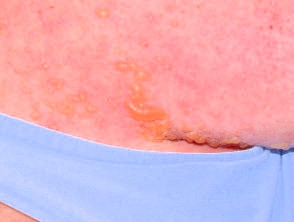SJS-TEN: (0, 0, 294, 169)
